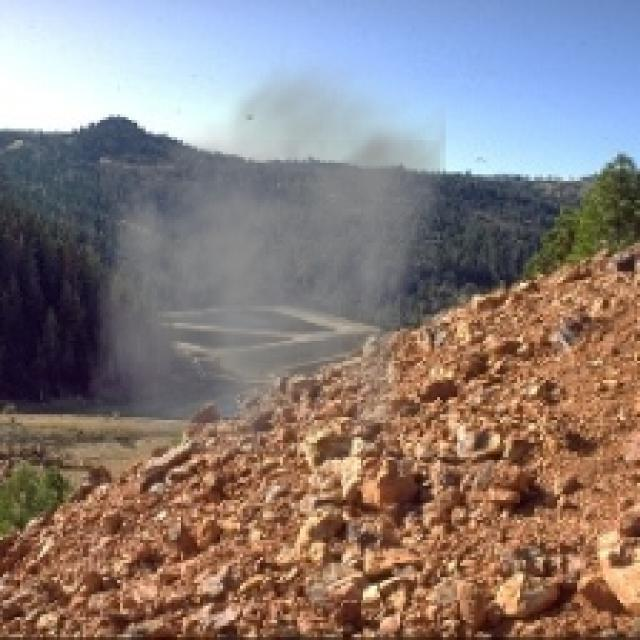Smoke: (88, 48, 446, 454)
